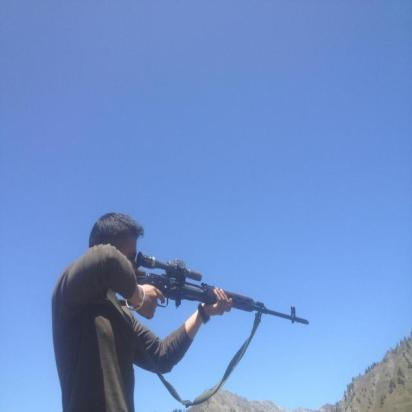Gun: (76, 250, 310, 327)
